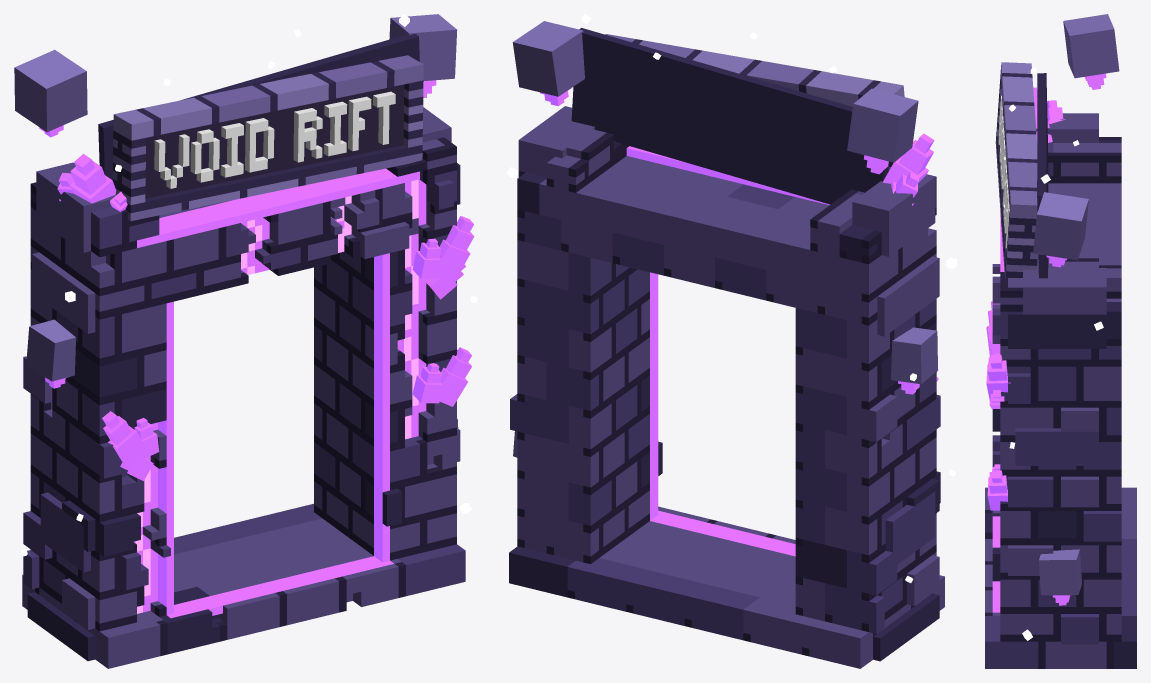
The model's file is Lobby_PortalArch_VoidRift.glb.
3 renders of one model, left to right at view 1: azimuth 30°, elevation 25°; view 2: azimuth 150°, elevation 25°; view 3: azimuth 270°, elevation 25°, orthographic. The views are drawn at different scales.
Visible parts, largest first — view 1: VoidRift_Void_Stone_Mid, VoidRift_Void_Seam, VoidRift_Void_Stone_Dark, VoidRift_Void_Stone_Deep, VoidRift_Glow_Rift, VoidRift_Glow_Crystal, VoidRift_Sign_Board, VoidRift_Sign_Letters, VoidRift_Float_Stone_Side, VoidRift_Sign_Frame, VoidRift_Sign_Frame_Light, VoidRift_Float_Stone_Top (+1 smaller); view 2: VoidRift_Void_Stone_Mid, VoidRift_Void_Stone_Dark, VoidRift_Void_Stone_Deep, VoidRift_Void_Seam, VoidRift_Float_Stone_Side, VoidRift_Glow_Rift, VoidRift_Float_Stone_Top, VoidRift_Sign_Frame_Light, VoidRift_Glow_Crystal, VoidRift_Sign_Frame; view 3: VoidRift_Void_Stone_Mid, VoidRift_Void_Stone_Dark, VoidRift_Void_Seam, VoidRift_Void_Stone_Deep, VoidRift_Float_Stone_Side, VoidRift_Glow_Crystal, VoidRift_Sign_Frame, VoidRift_Sign_Frame_Light, VoidRift_Float_Stone_Top, VoidRift_Sign_Letters, VoidRift_Glow_Rift, VoidRift_Glow_Speck.
Boxes of the visible parts, left/top/right/bottom form: VoidRift_Void_Stone_Mid: left=22, top=107, right=460, bottom=668; VoidRift_Void_Seam: left=30, top=137, right=456, bottom=655; VoidRift_Void_Stone_Dark: left=23, top=170, right=465, bottom=596; VoidRift_Void_Stone_Deep: left=27, top=34, right=460, bottom=661; VoidRift_Glow_Rift: left=134, top=168, right=426, bottom=618; VoidRift_Glow_Crystal: left=39, top=80, right=474, bottom=480; VoidRift_Sign_Board: left=145, top=84, right=404, bottom=198; VoidRift_Sign_Letters: left=154, top=91, right=395, bottom=188; VoidRift_Float_Stone_Side: left=14, top=18, right=458, bottom=428; VoidRift_Sign_Frame: left=112, top=55, right=423, bottom=221; VoidRift_Sign_Frame_Light: left=113, top=74, right=423, bottom=208; VoidRift_Float_Stone_Top: left=14, top=14, right=457, bottom=419; VoidRift_Void_Stone_Mid: left=517, top=106, right=944, bottom=668; VoidRift_Void_Stone_Dark: left=510, top=174, right=940, bottom=640; VoidRift_Void_Stone_Deep: left=509, top=28, right=940, bottom=661; VoidRift_Void_Seam: left=517, top=133, right=936, bottom=656; VoidRift_Float_Stone_Side: left=512, top=31, right=937, bottom=457; VoidRift_Glow_Rift: left=626, top=146, right=829, bottom=556; VoidRift_Float_Stone_Top: left=513, top=21, right=936, bottom=344; VoidRift_Sign_Frame_Light: left=693, top=50, right=904, bottom=170; VoidRift_Glow_Crystal: left=540, top=88, right=938, bottom=394; VoidRift_Sign_Frame: left=605, top=34, right=813, bottom=90; VoidRift_Void_Stone_Mid: left=985, top=113, right=1136, bottom=668; VoidRift_Void_Stone_Dark: left=985, top=143, right=1136, bottom=668; VoidRift_Void_Seam: left=985, top=137, right=1121, bottom=668; VoidRift_Void_Stone_Deep: left=985, top=73, right=1136, bottom=668; VoidRift_Float_Stone_Side: left=1033, top=22, right=1119, bottom=595; VoidRift_Glow_Crystal: left=986, top=73, right=1106, bottom=605; VoidRift_Sign_Frame: left=995, top=84, right=1037, bottom=277; VoidRift_Sign_Frame_Light: left=996, top=62, right=1037, bottom=258; VoidRift_Float_Stone_Top: left=1037, top=14, right=1113, bottom=560; VoidRift_Sign_Letters: left=998, top=95, right=1009, bottom=248; VoidRift_Glow_Rift: left=992, top=212, right=1004, bottom=612; VoidRift_Glow_Speck: left=1008, top=67, right=1103, bottom=640.
Bounding box in the file's own units: 2.79 × 3.6 × 1.
